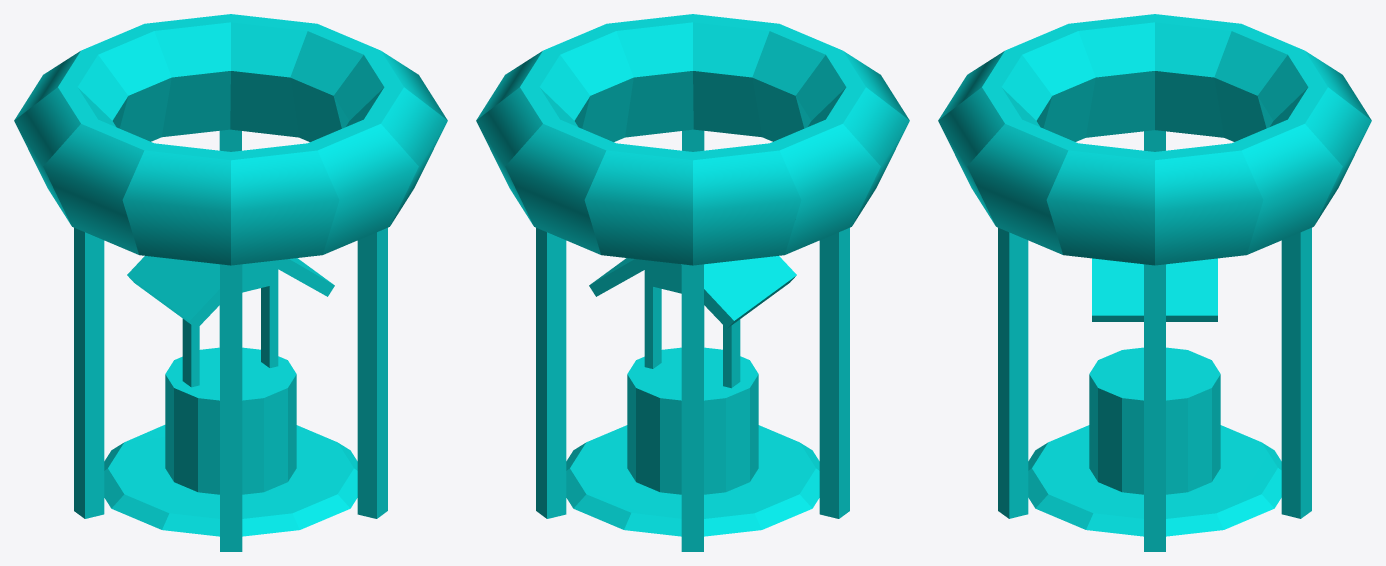
Rendered from SM_Bld_Well_01_Collision.fbx.
The picture shows the model from 3 angles, left to right: view 1: azimuth 30°, elevation 25°; view 2: azimuth 150°, elevation 25°; view 3: azimuth 270°, elevation 25°; orthographic projection.
Visible parts, largest first — view 1: SM_Bld_Well_01_Collision; view 2: SM_Bld_Well_01_Collision; view 3: SM_Bld_Well_01_Collision.
Part boxes in pixels (bbox=[...]): SM_Bld_Well_01_Collision: bbox=[14, 14, 447, 551]; SM_Bld_Well_01_Collision: bbox=[476, 14, 909, 551]; SM_Bld_Well_01_Collision: bbox=[938, 14, 1371, 551].
Size of the model in its own units: 371 by 370 by 371.
